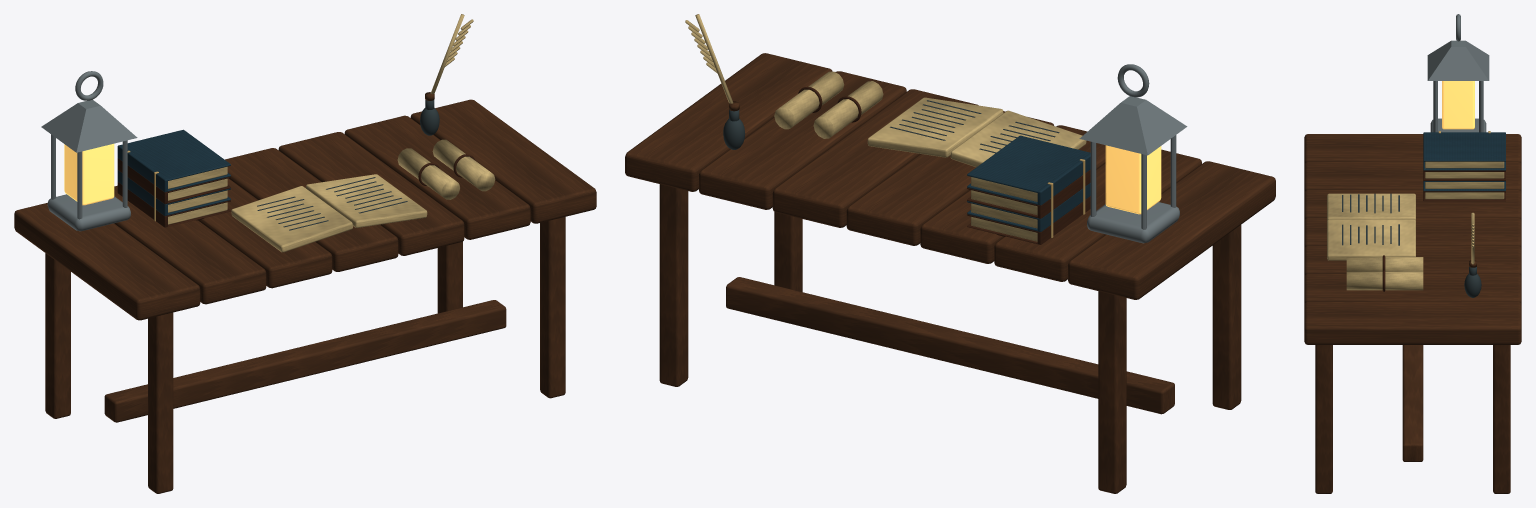
File: research_desk.glb
3 views of the same model, side by side, from view 1: azimuth 30°, elevation 25°; view 2: azimuth 150°, elevation 25°; view 3: azimuth 270°, elevation 25° (orthographic). The views are drawn at different scales.
Visible parts, largest first — view 1: Turned desk leg.004, Book pages.004, Lantern cage.016, Leather book cover.010, Lantern glow.004, Leather book cover.008, Handwritten line.016; view 2: Turned desk leg.004, Book pages.004, Lantern cage.016, Leather book cover.010, Lantern glow.004, Leather book cover.008, Handwritten line.016; view 3: Turned desk leg.004, Book pages.004, Lantern cage.016, Leather book cover.010, Lantern glow.004, Leather book cover.008, Handwritten line.016.
Part boxes in pixels (box(x1,y1,x2,y2)): Turned desk leg.004: box(14, 92, 596, 493); Book pages.004: box(168, 14, 495, 252); Lantern cage.016: box(41, 71, 137, 231); Leather book cover.010: box(117, 129, 230, 215); Lantern glow.004: box(64, 143, 114, 205); Leather book cover.008: box(117, 154, 474, 227); Handwritten line.016: box(257, 100, 439, 230); Turned desk leg.004: box(625, 53, 1275, 493); Book pages.004: box(685, 14, 1086, 241); Lantern cage.016: box(1079, 64, 1187, 243); Leather book cover.010: box(967, 135, 1090, 231); Lantern glow.004: box(1105, 145, 1161, 214); Leather book cover.008: box(798, 86, 1090, 244); Handwritten line.016: box(723, 100, 1059, 153); Turned desk leg.004: box(1304, 134, 1521, 493); Book pages.004: box(1327, 161, 1504, 290); Lantern cage.016: box(1427, 14, 1489, 132); Leather book cover.010: box(1423, 132, 1505, 191); Lantern glow.004: box(1442, 81, 1474, 129); Leather book cover.008: box(1382, 170, 1505, 291); Handwritten line.016: box(1342, 193, 1481, 297).
Size of the model in its own units: 2.23 by 1.67 by 1.05.
Materials: 8 (4 with a texture image).
